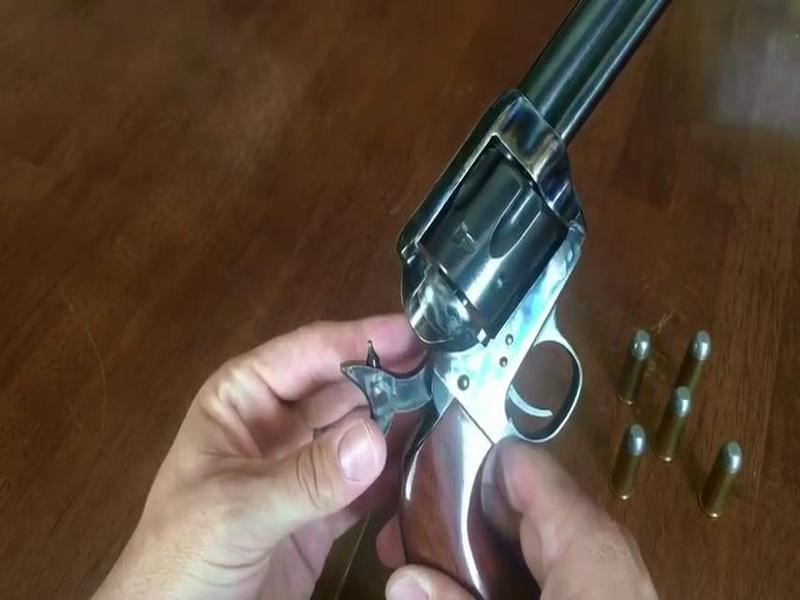Revolver: (350, 22, 597, 487)
